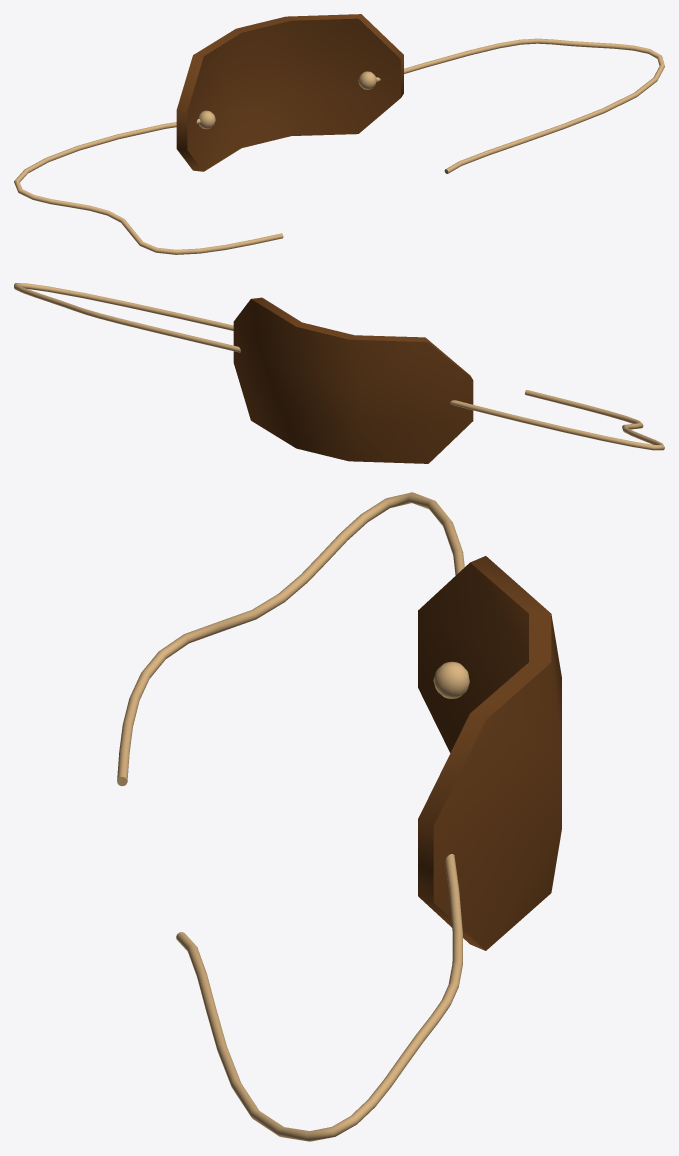
The model's file is adobe_fronde.gltf.
3 renders of one model, top to bottom at view 1: azimuth 30°, elevation 25°; view 2: azimuth 150°, elevation 25°; view 3: azimuth 270°, elevation 25°, orthographic. The views are drawn at different scales.
Visible parts, largest first — view 1: fronde; view 2: fronde; view 3: fronde.
Boxes of the visible parts, bbox=[...] form: fronde: bbox=[14, 14, 664, 254]; fronde: bbox=[14, 283, 664, 463]; fronde: bbox=[117, 492, 561, 1141].
Size of the model in its own units: 0.3503 by 0.0616 by 0.107.
1 material, 1 textured.
